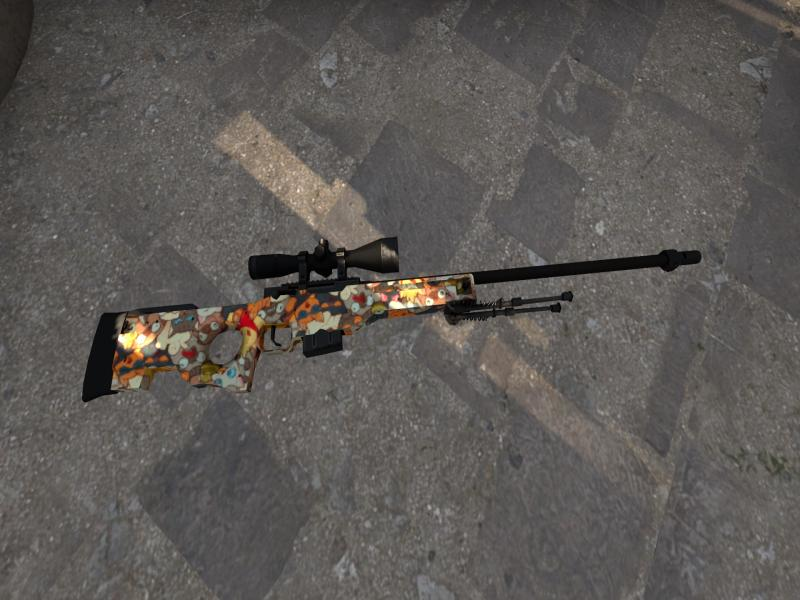AWP: (81, 237, 702, 400)
